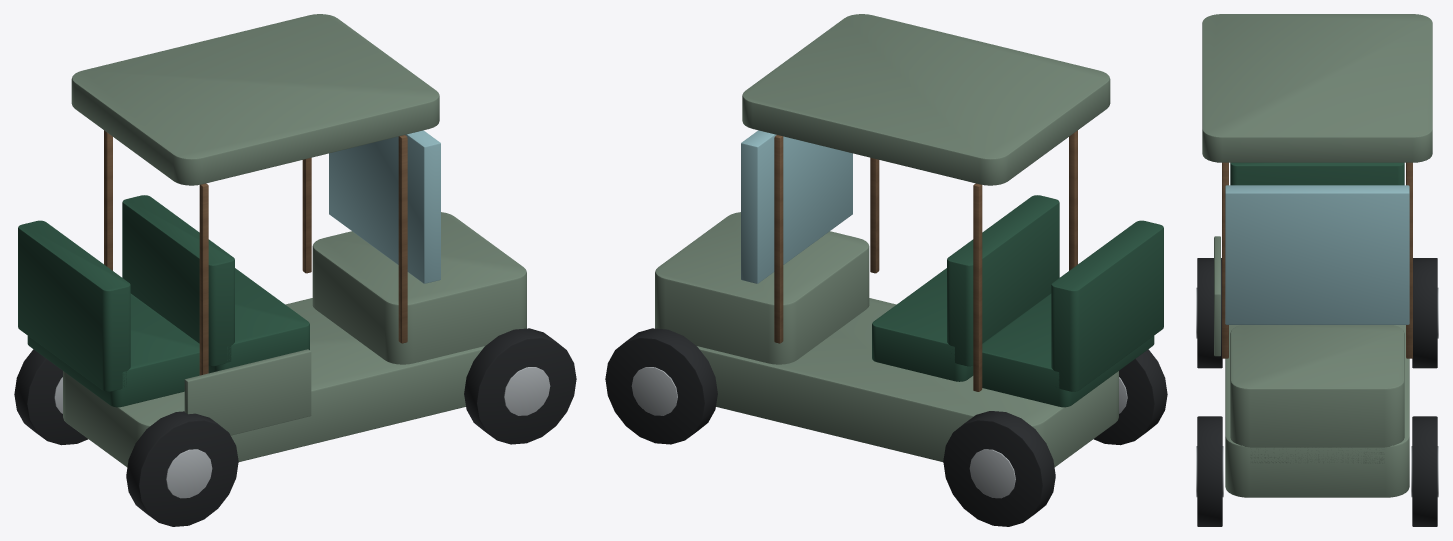
Rendered from golf_cart_high_end.glb.
3 views of the same model, side by side, from view 1: azimuth 30°, elevation 25°; view 2: azimuth 150°, elevation 25°; view 3: azimuth 270°, elevation 25° (orthographic). The views are drawn at different scales.
Visible parts, largest first — view 1: Canopy_Roof, GolfCart_Hood, GolfCart_Chassis, GolfCart_SeatBack_2, GolfCart_Windshield, GolfCart_SeatBack_1, CartWheel_Front_L_Tire, CartWheel_Rear_L_Tire, GolfCart_StorageDoor, GolfCart_Seat_2, GolfCart_Seat_1, CartWheel_Rear_R_Tire (+6 smaller); view 2: Canopy_Roof, GolfCart_Chassis, GolfCart_Hood, GolfCart_SeatBack_2, GolfCart_Windshield, GolfCart_SeatBack_1, CartWheel_Front_R_Tire, CartWheel_Rear_R_Tire, GolfCart_Seat_2, GolfCart_Seat_1, CartWheel_Rear_L_Tire, Canopy_Post_1_2 (+5 smaller); view 3: Canopy_Roof, GolfCart_Windshield, GolfCart_Hood, GolfCart_Chassis, GolfCart_SeatBack_1, CartWheel_Front_L_Tire, CartWheel_Front_R_Tire, CartWheel_Rear_R_Tire, CartWheel_Rear_L_Tire, Canopy_Post_2_1, Canopy_Post_2_2, GolfCart_StorageDoor.
Part boxes in pixels (x1,y1,x2,y2): Canopy_Roof: [71, 14, 439, 185]; GolfCart_Hood: [312, 212, 526, 364]; GolfCart_Chassis: [63, 298, 484, 466]; GolfCart_SeatBack_2: [18, 220, 130, 391]; GolfCart_Windshield: [329, 130, 440, 283]; GolfCart_SeatBack_1: [122, 195, 234, 366]; CartWheel_Front_L_Tire: [464, 328, 576, 444]; CartWheel_Rear_L_Tire: [126, 411, 238, 526]; GolfCart_StorageDoor: [184, 349, 311, 435]; GolfCart_Seat_2: [27, 293, 199, 407]; GolfCart_Seat_1: [208, 268, 309, 373]; CartWheel_Rear_R_Tire: [14, 349, 88, 445]; Canopy_Roof: [742, 14, 1110, 185]; GolfCart_Chassis: [697, 298, 1118, 466]; GolfCart_Hood: [655, 212, 869, 364]; GolfCart_SeatBack_2: [1051, 220, 1163, 391]; GolfCart_Windshield: [741, 130, 852, 283]; GolfCart_SeatBack_1: [947, 195, 1059, 366]; CartWheel_Front_R_Tire: [605, 328, 717, 444]; CartWheel_Rear_R_Tire: [943, 411, 1055, 526]; GolfCart_Seat_2: [982, 293, 1154, 407]; GolfCart_Seat_1: [872, 268, 973, 381]; CartWheel_Rear_L_Tire: [1093, 349, 1167, 445]; Canopy_Post_1_2: [973, 183, 982, 391]; Canopy_Roof: [1202, 14, 1432, 162]; GolfCart_Windshield: [1225, 185, 1409, 324]; GolfCart_Hood: [1230, 325, 1404, 463]; GolfCart_Chassis: [1225, 325, 1409, 497]; GolfCart_SeatBack_1: [1230, 162, 1404, 185]; CartWheel_Front_L_Tire: [1197, 416, 1222, 526]; CartWheel_Front_R_Tire: [1412, 416, 1437, 526]; CartWheel_Rear_R_Tire: [1412, 258, 1437, 368]; CartWheel_Rear_L_Tire: [1197, 258, 1222, 368]; Canopy_Post_2_1: [1222, 162, 1228, 358]; Canopy_Post_2_2: [1406, 162, 1412, 358]; GolfCart_StorageDoor: [1214, 236, 1220, 356].
Size of what is drawn, in the model's own units: 2.52 by 1.92 by 1.21.
Materials: 6 (1 with a texture image).
